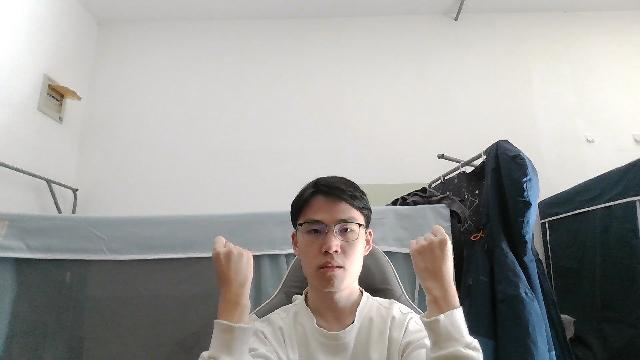ten: (406, 222, 459, 293), (210, 235, 255, 309)
